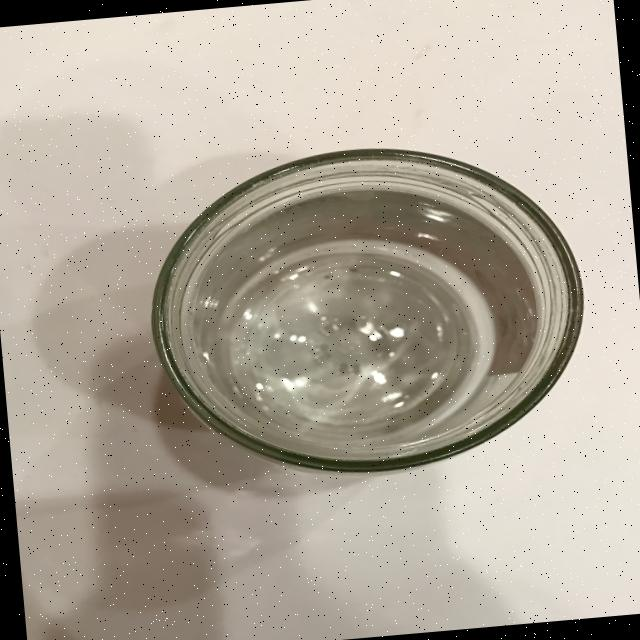glass: (136, 129, 598, 491)
